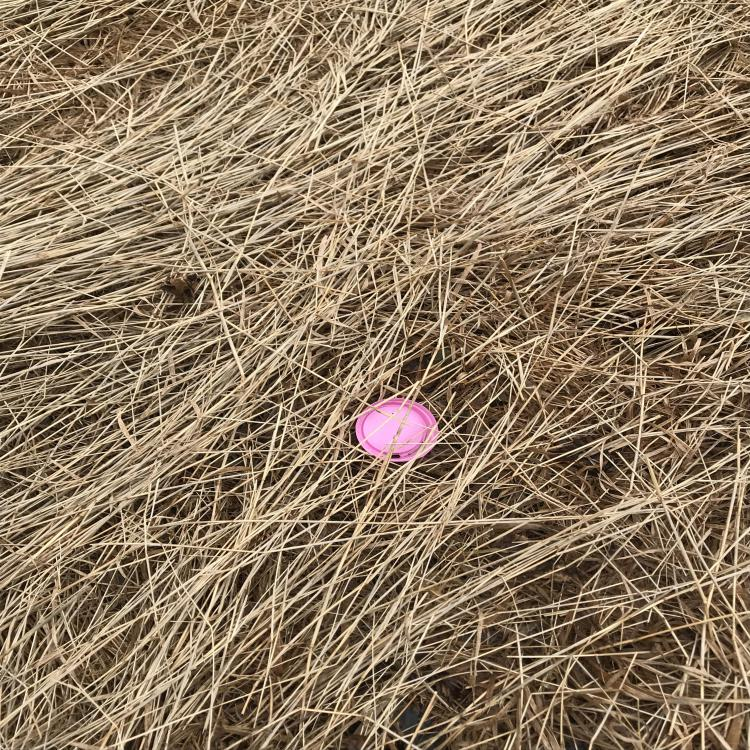Plastic bottle cap: (356, 398, 437, 462)
